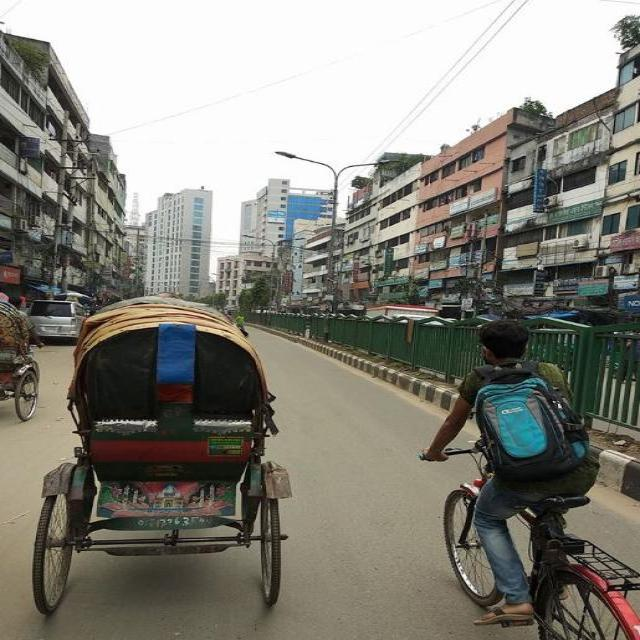13: (30, 289, 299, 623), (0, 294, 46, 423)
9: (23, 296, 86, 342)
Motorcycle: (404, 432, 635, 638)
